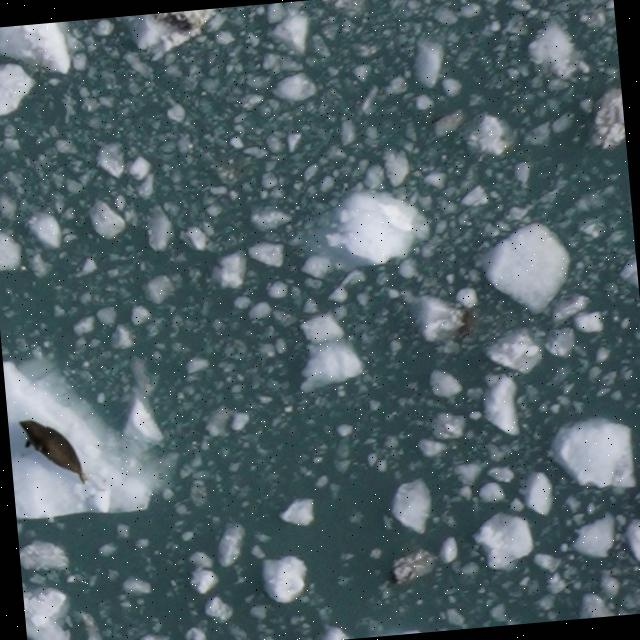seal: (12, 405, 92, 496)
